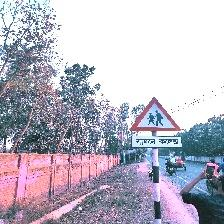College-in-front: (121, 94, 178, 151)
